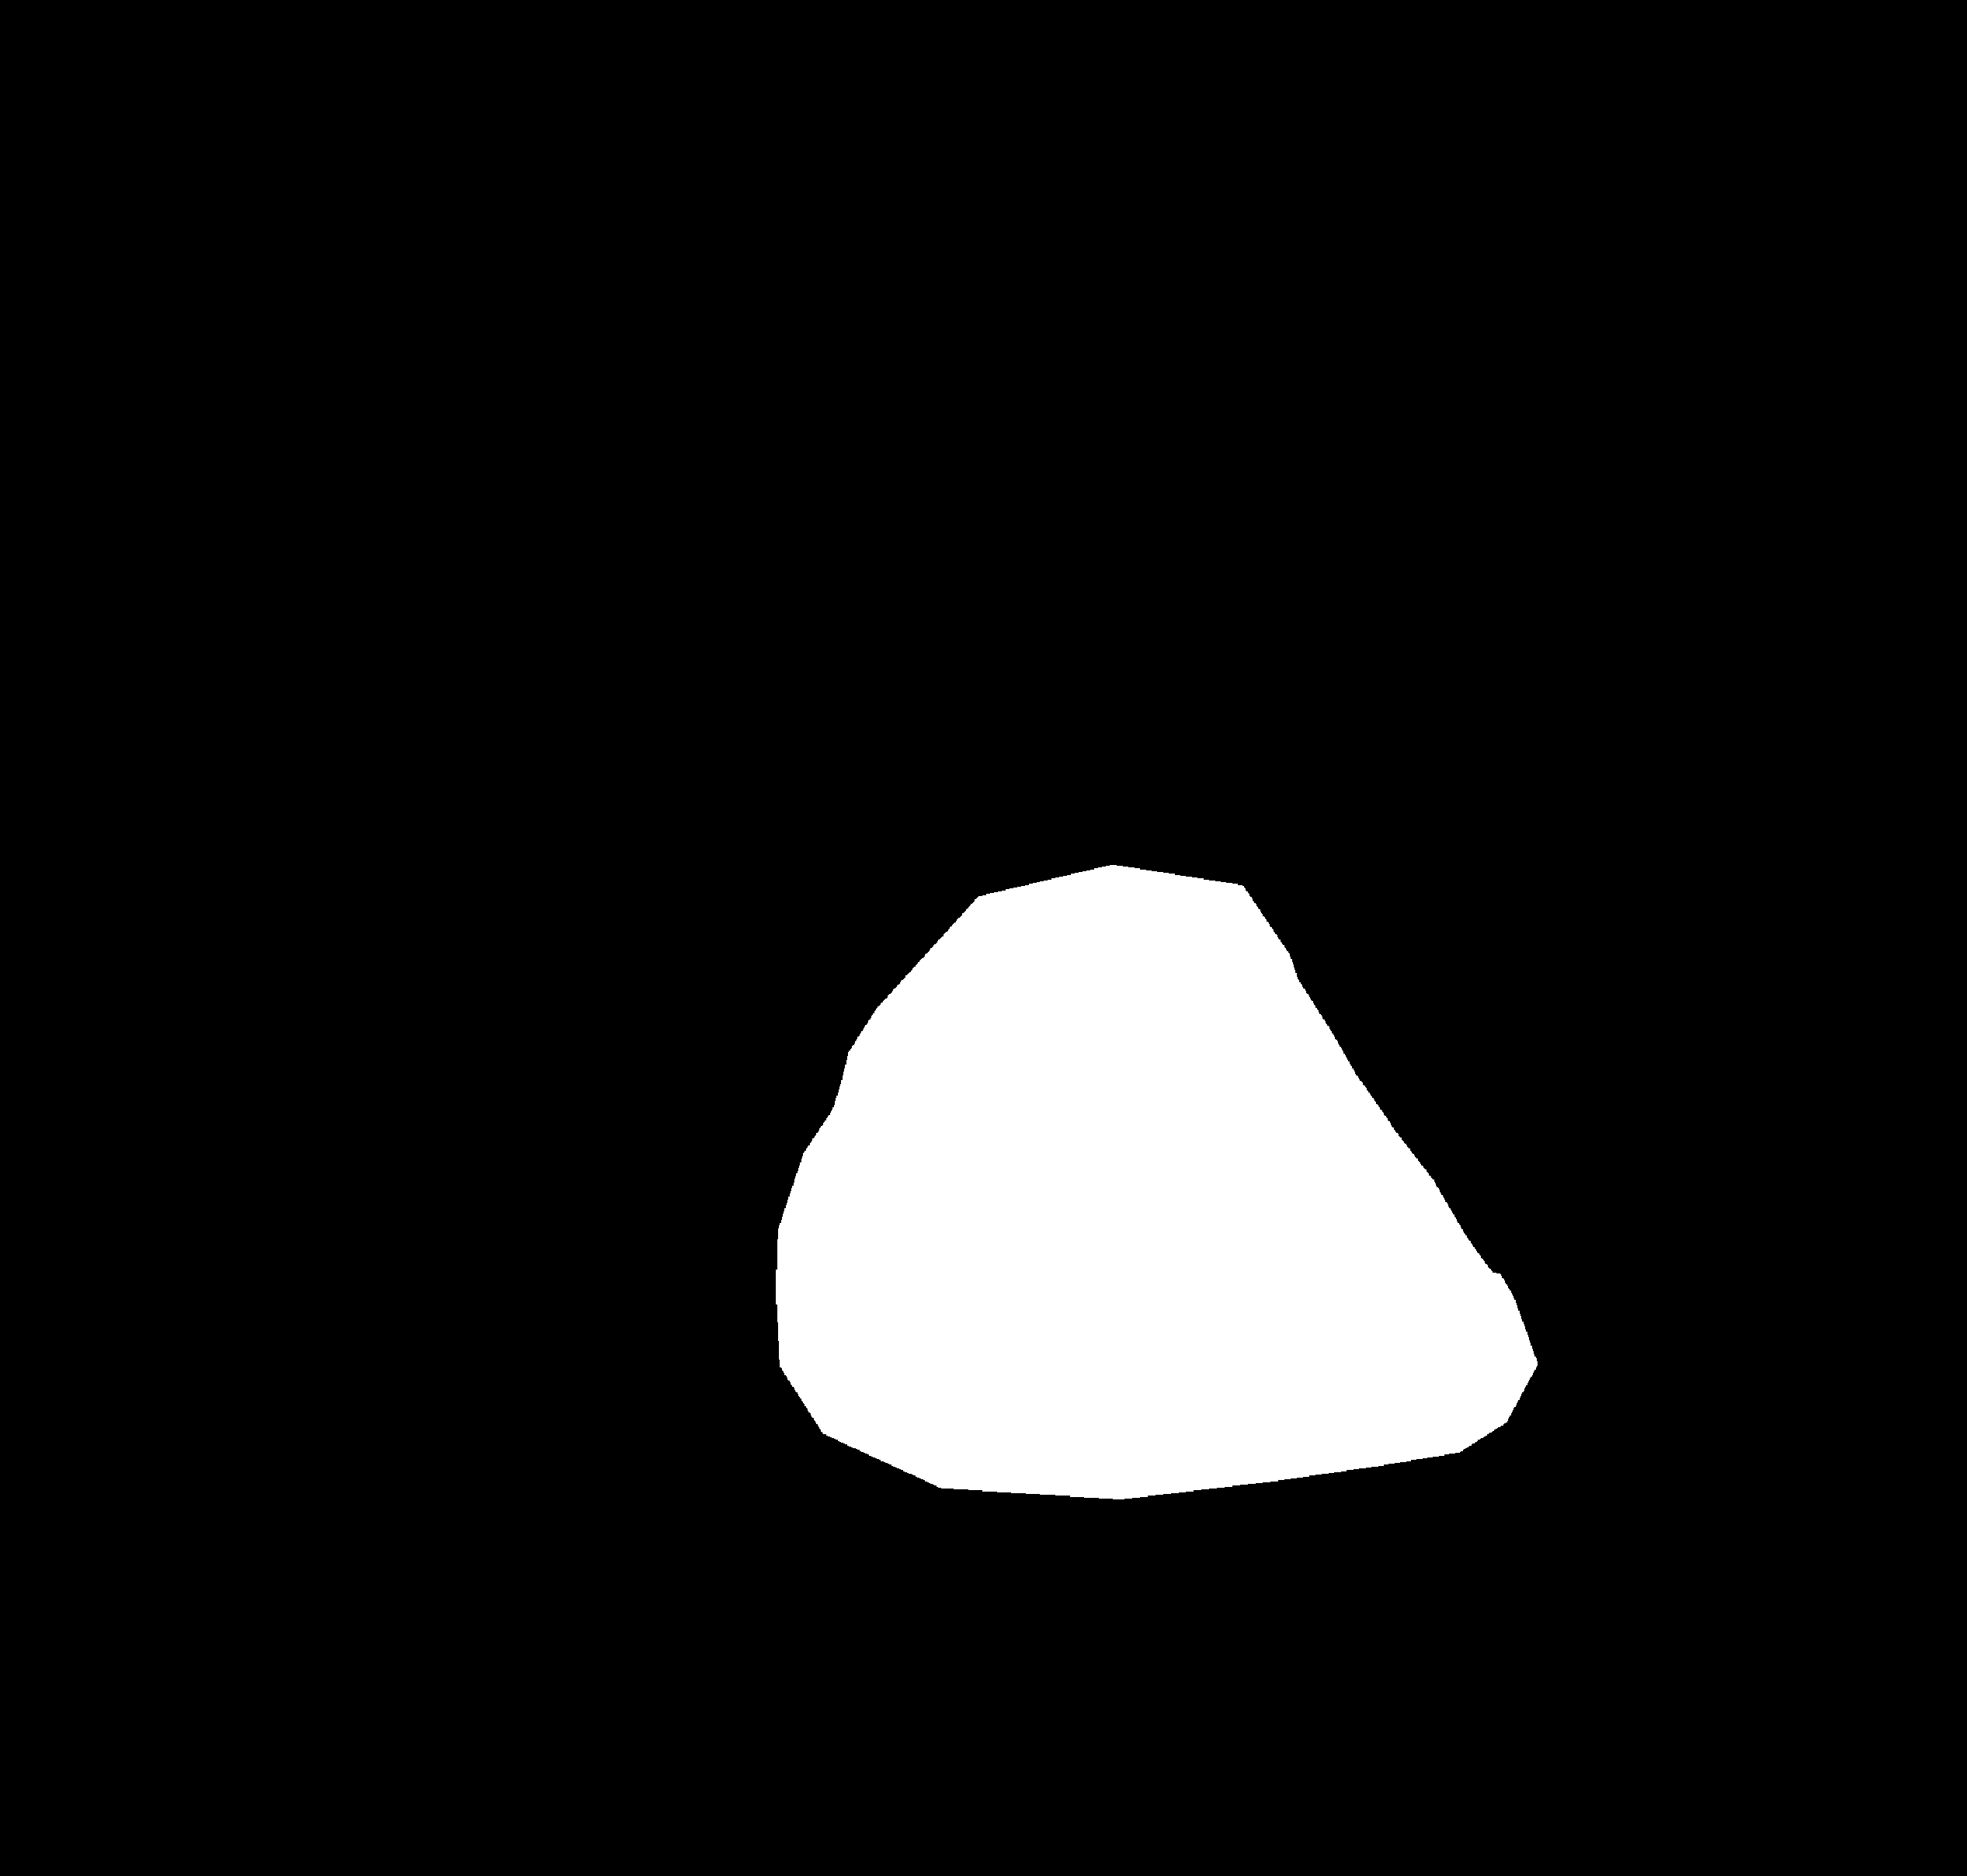heart: (778, 1047, 1510, 1588)
left_lung: (148, 281, 931, 1685)
right_lung: (1129, 314, 1800, 1707)
